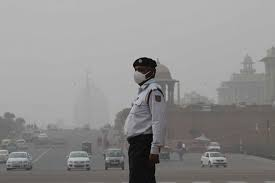mask: (128, 60, 158, 88)
